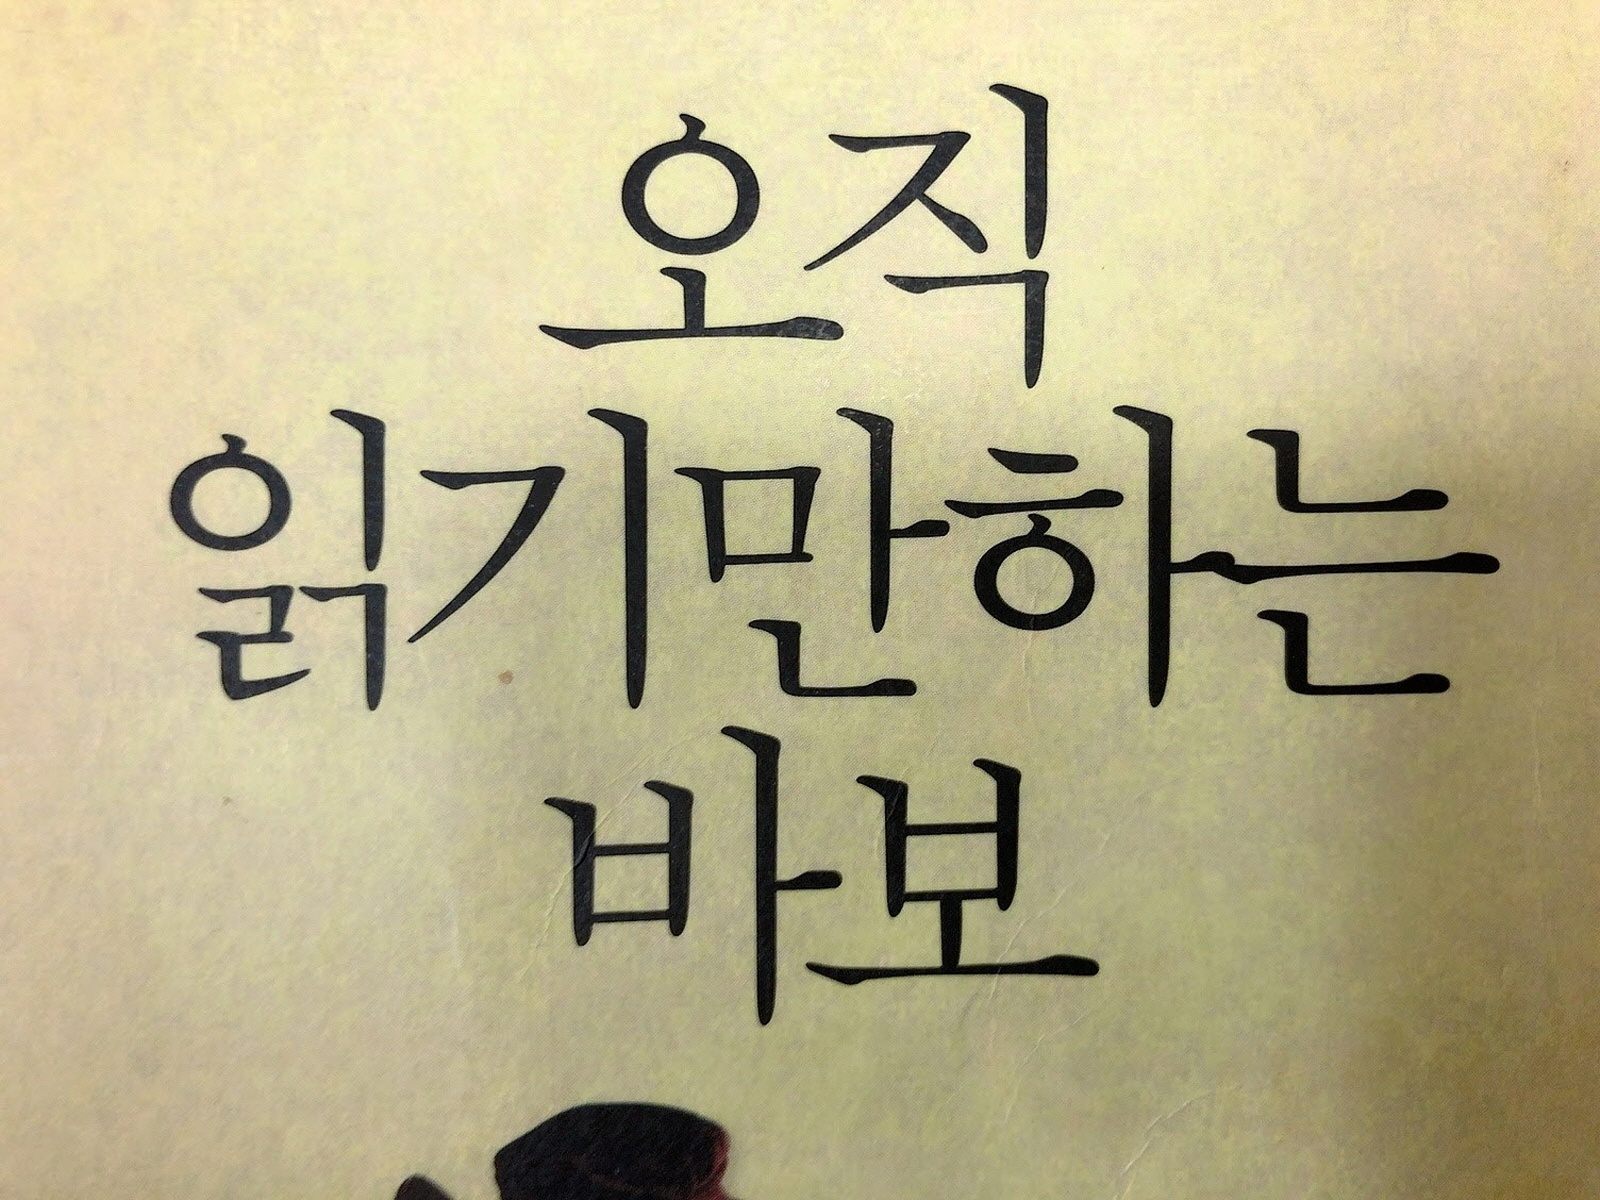text: (111, 382, 1529, 720), (479, 710, 1167, 1039), (466, 66, 1141, 391)
